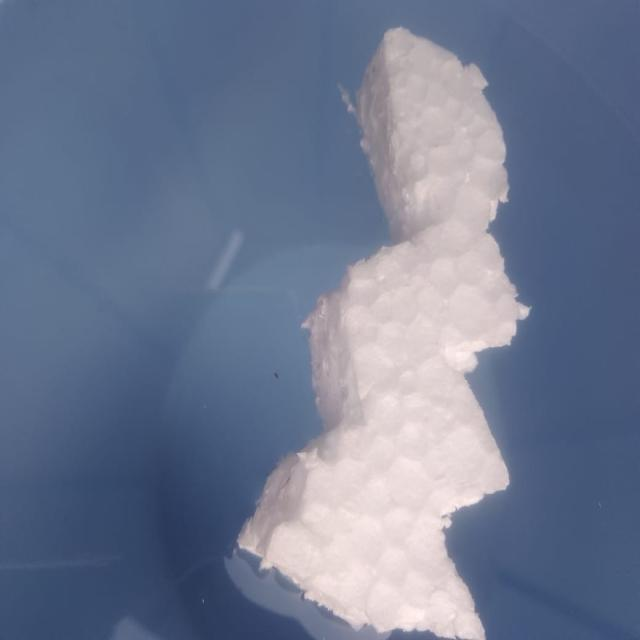thermocoal: (232, 16, 532, 640)
